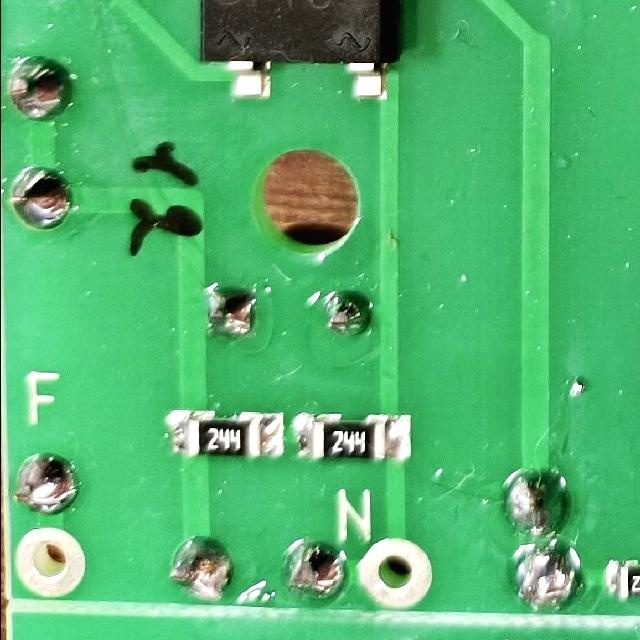chip-resistor: (291, 409, 413, 464), (161, 407, 283, 461)
